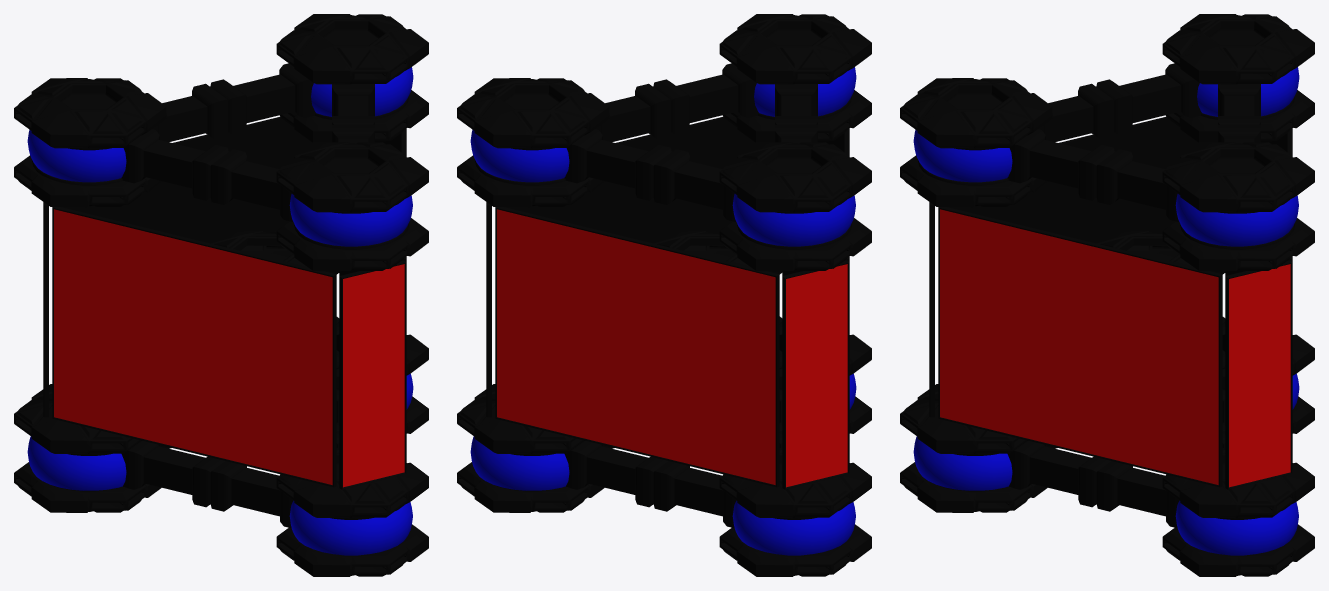
Rendered from MD_OB_MotherShip_Billboard_Outline_00.fbx.
The picture shows the model from 3 angles, left to right: view 1: azimuth 30°, elevation 25°; view 2: azimuth 150°, elevation 25°; view 3: azimuth 270°, elevation 25°; orthographic projection.
Parts seen in each view (by area): view 1: MD_OB_Mothership_Tower_Billboard_00; view 2: MD_OB_Mothership_Tower_Billboard_00; view 3: MD_OB_Mothership_Tower_Billboard_00.
Boxes of the visible parts, left/top/right/bottom form: MD_OB_Mothership_Tower_Billboard_00: left=14, top=14, right=428, bottom=576; MD_OB_Mothership_Tower_Billboard_00: left=457, top=14, right=871, bottom=576; MD_OB_Mothership_Tower_Billboard_00: left=900, top=14, right=1314, bottom=576.
Bounding box in the file's own units: 952 × 957 × 901.
